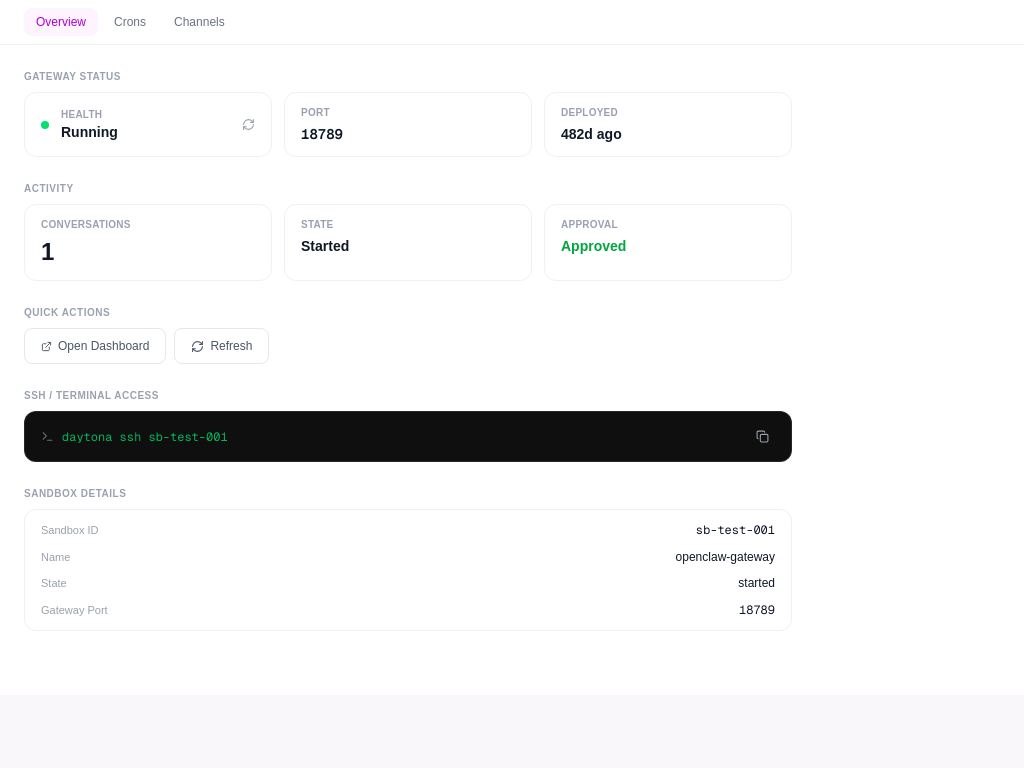
Test case: MissionControlPanel › switches to Crons tab on click
This screenshot has width=1024, height=768.
Click the button "Crons" at (130, 22), box [102,8,158,36]
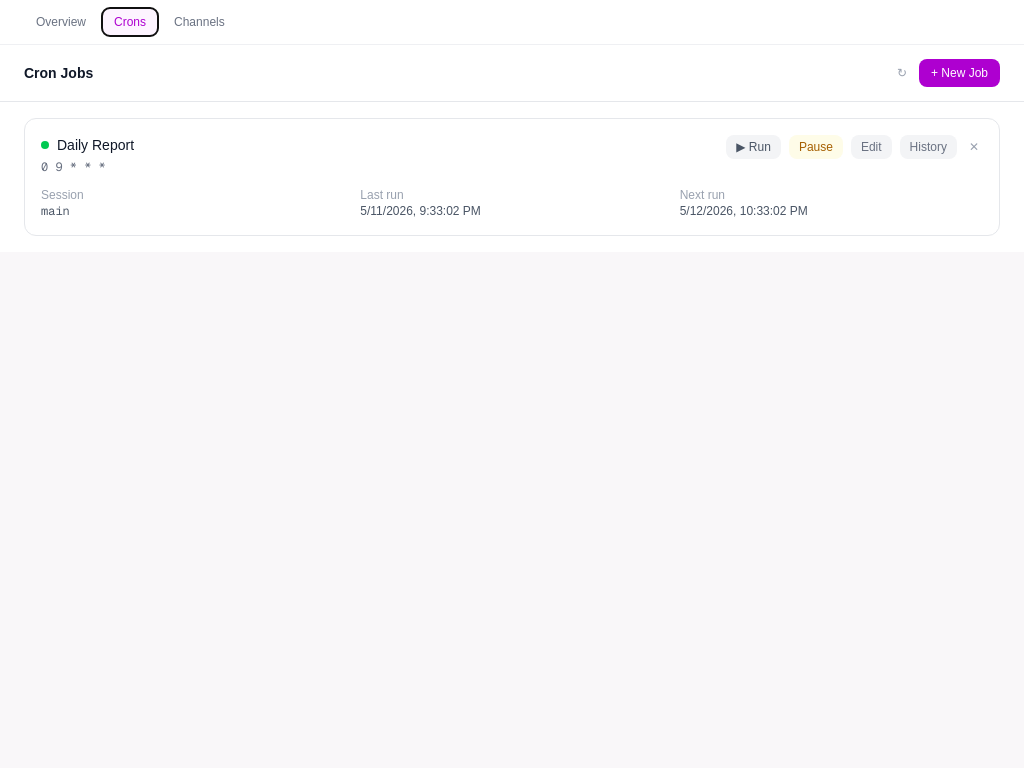
Check: the text "Gateway Status" is gone
